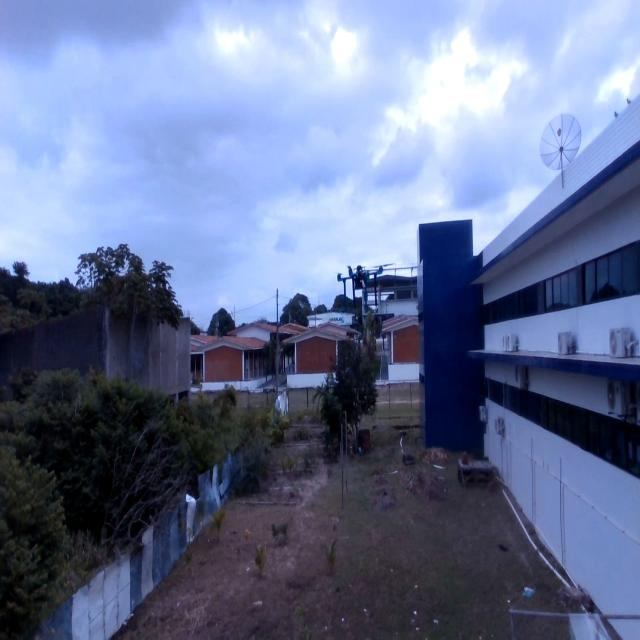-uav-: (327, 241, 395, 326)
